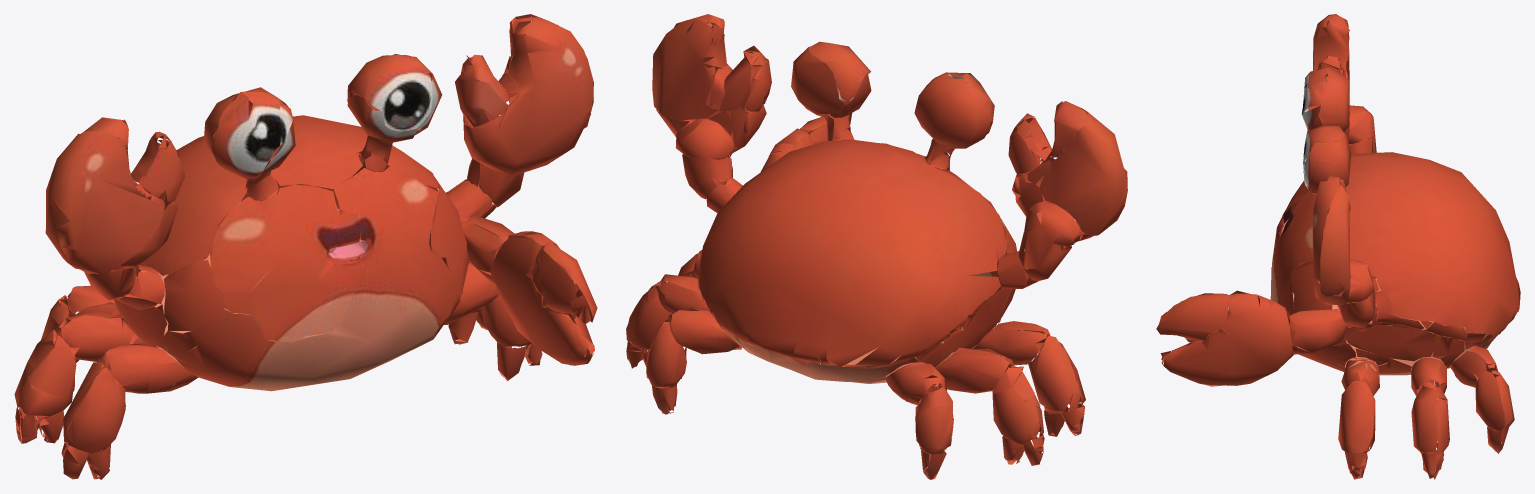
File: crab.glb
3 views of the same model, side by side, from view 1: azimuth 30°, elevation 25°; view 2: azimuth 150°, elevation 25°; view 3: azimuth 270°, elevation 25° (orthographic). The views are drawn at different scales.
Parts seen in each view (by area): view 1: model; view 2: model; view 3: model.
Part boxes in pixels (left/top/right/bottom): model: left=14, top=14, right=597, bottom=479; model: left=626, top=14, right=1127, bottom=479; model: left=1156, top=14, right=1520, bottom=479.
Size of the model in its own units: 1.89 by 1.25 by 1.39.
Materials: 1 (1 with a texture image).
